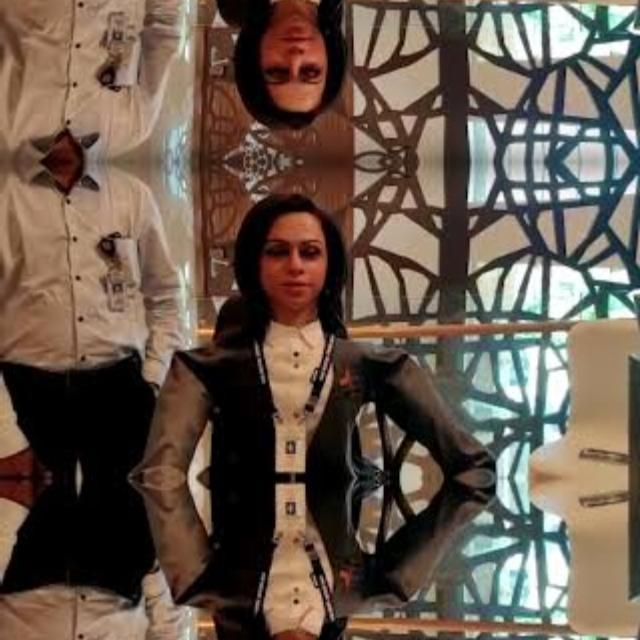person: (217, 180, 356, 378), (216, 0, 355, 141), (216, 578, 355, 640)
